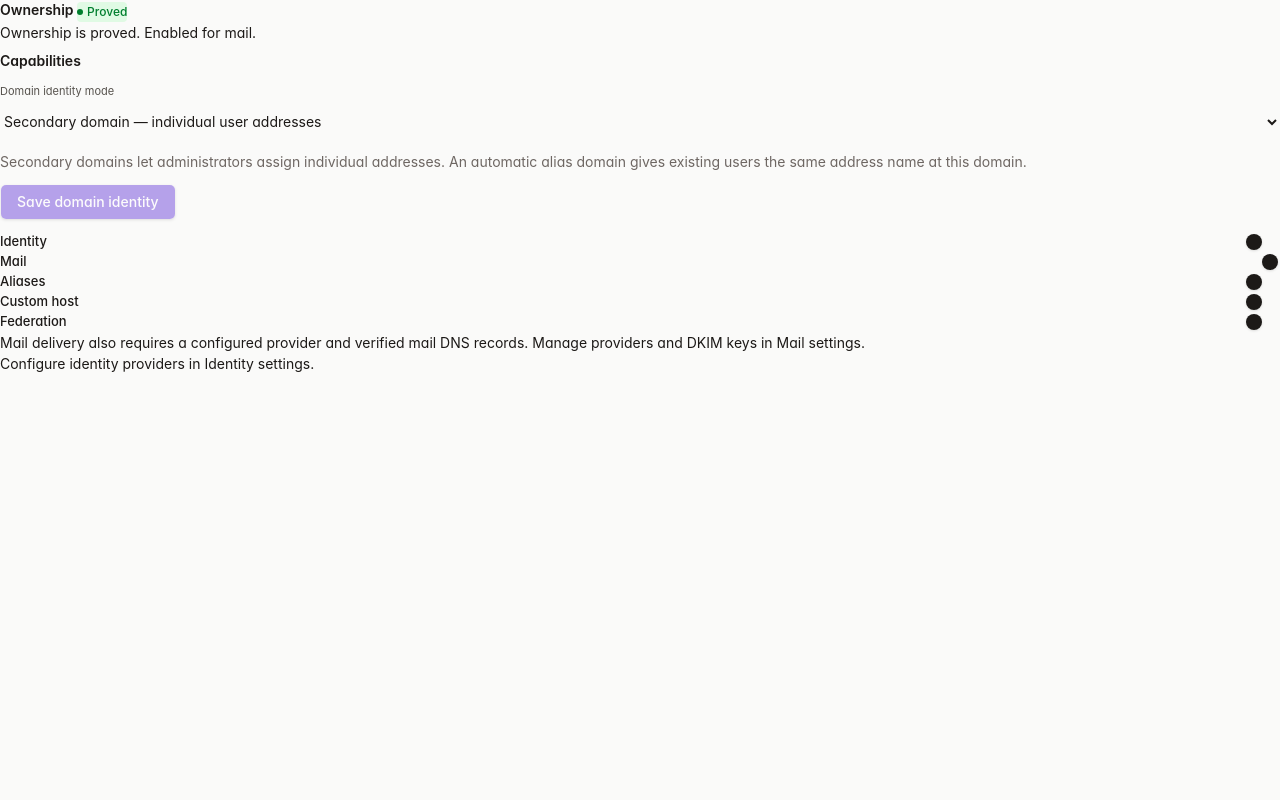
Test: DomainCapabilitiesPanel › explains lost delivery before disabling mail and retains stored keys
Click the 2nd switch. click: coordinates (1262, 262)
box: [1244, 252, 1279, 272]
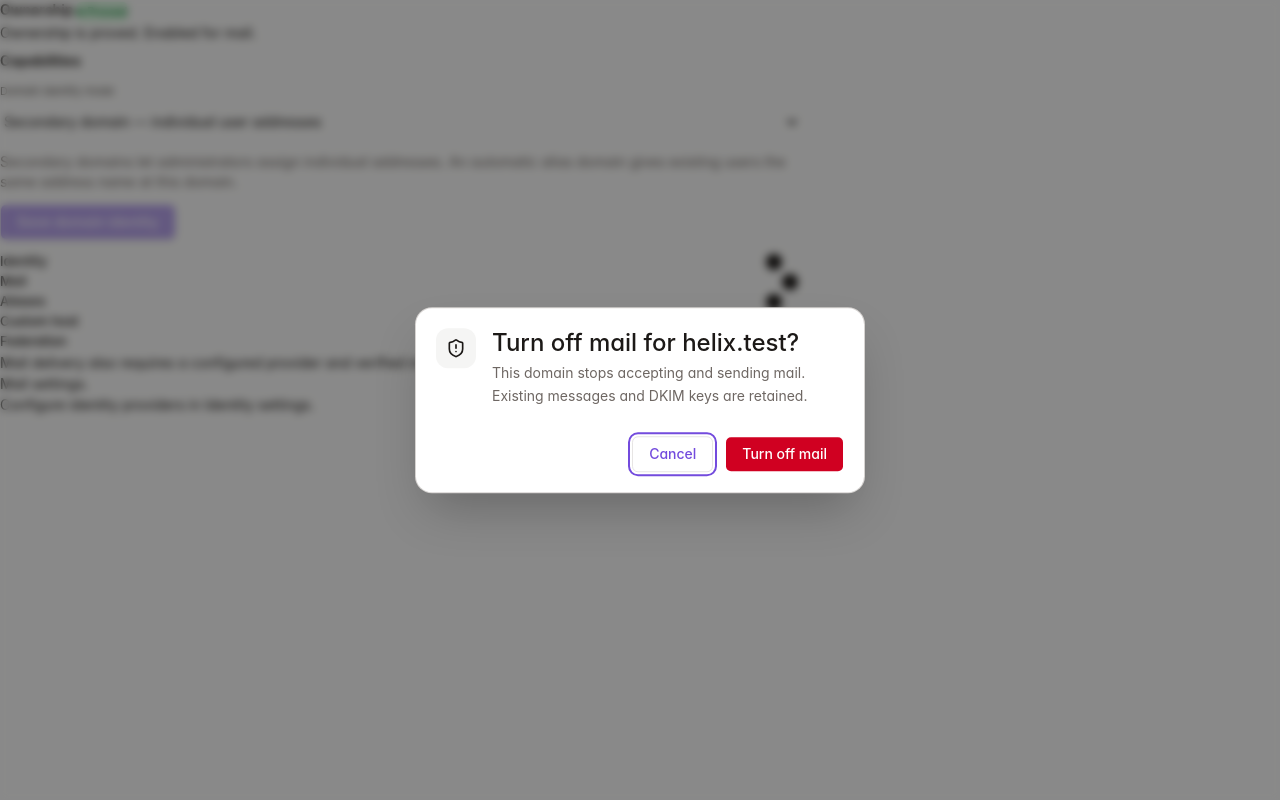
Result: the text "stops accepting and sending mail" is shown at [492, 364, 808, 404]
Result: the text "keys are retained" is shown at [492, 364, 808, 404]
